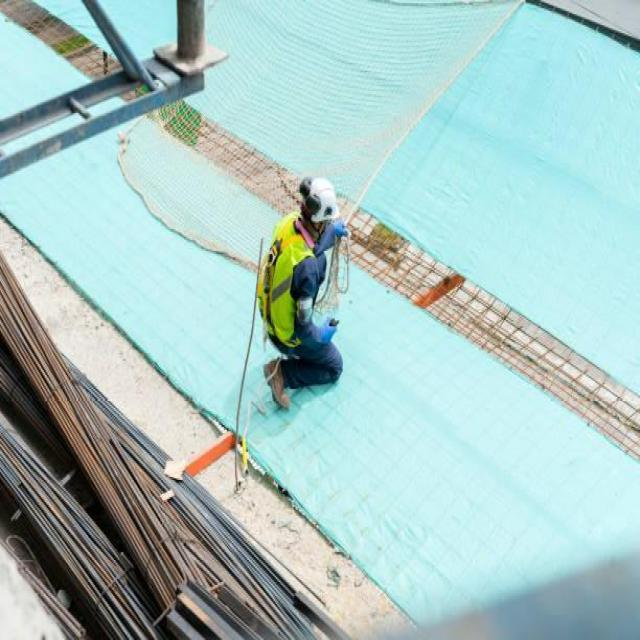belt: (258, 209, 316, 357)
